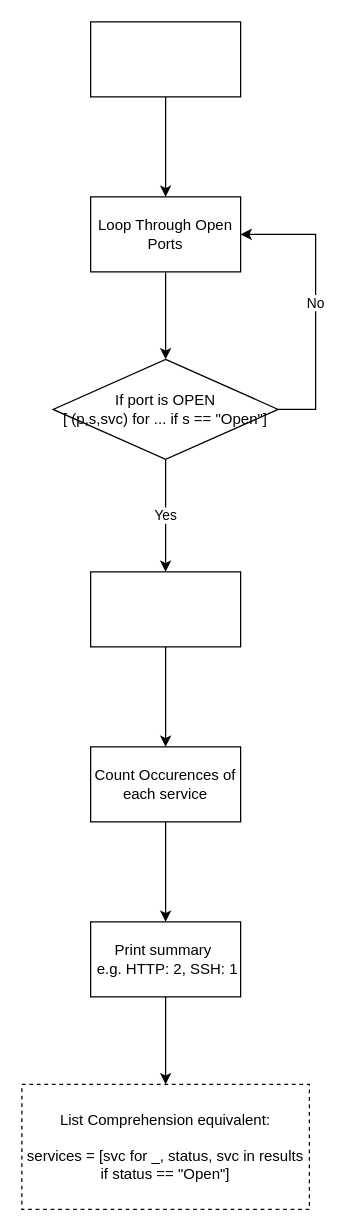
This 348x1231 diagram has some shape labels left out. The centre of each missing label's shape, as x and y in pixels:
Extract services | | [svc for _,_,svc in open_ports]: (x=165, y=609)
Get Open Ports: (x=165, y=59)
